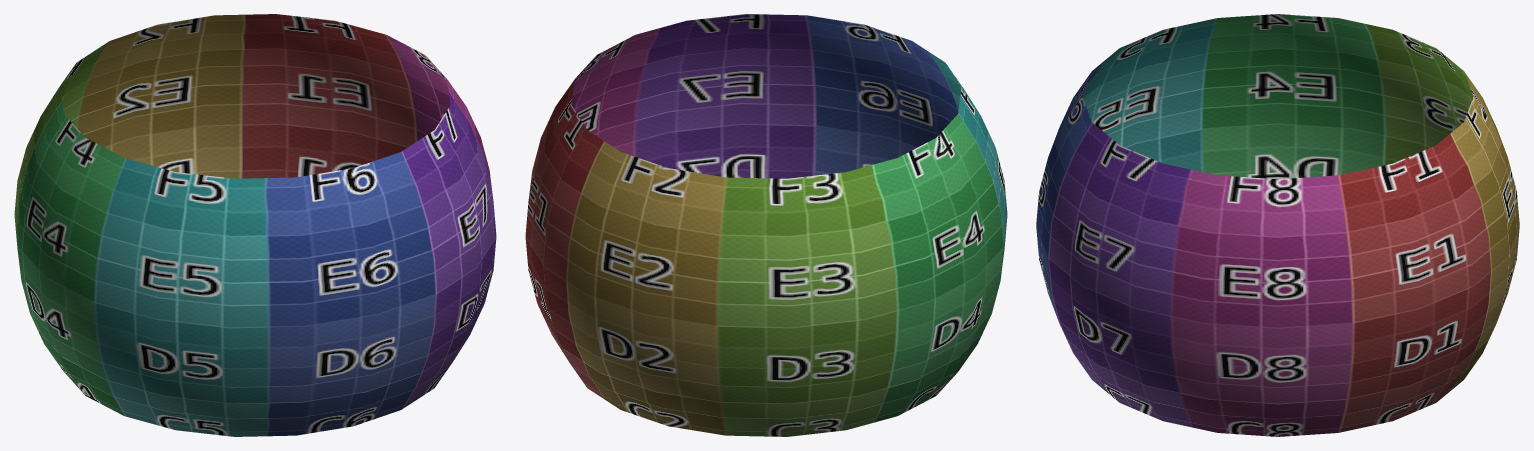
File: tex_test_cut.fbx
The picture shows the model from 3 angles, left to right: view 1: azimuth 30°, elevation 25°; view 2: azimuth 150°, elevation 25°; view 3: azimuth 270°, elevation 25°; orthographic projection.
Visible parts, largest first — view 1: pSphere1; view 2: pSphere1; view 3: pSphere1.
Part boxes in pixels (<box>): pSphere1: <box>14,14,496,436</box>; pSphere1: <box>525,14,1007,436</box>; pSphere1: <box>1036,14,1519,436</box>.
Bounding box in the file's own units: 2 × 1.18 × 2.
